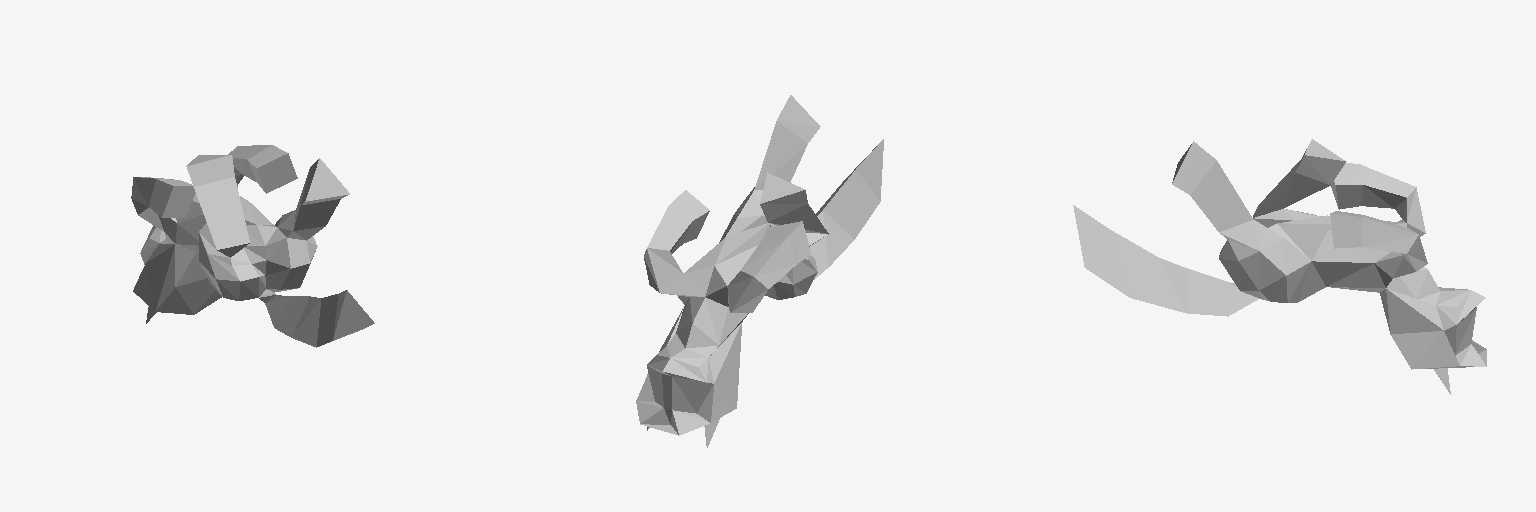
The model's file is PONY_000026.obj.
3 renders of one model, left to right at view 1: azimuth 30°, elevation 25°; view 2: azimuth 150°, elevation 25°; view 3: azimuth 270°, elevation 25°, orthographic.
Parts seen in each view (by area): view 1: pony; view 2: pony; view 3: pony.
Boxes of the visible parts, <box> form: pony: <box>131,145,374,347</box>; pony: <box>636,95,883,447</box>; pony: <box>1073,139,1486,394</box>.
Bounding box in the file's own units: 4.72 × 8.19 × 12.29.